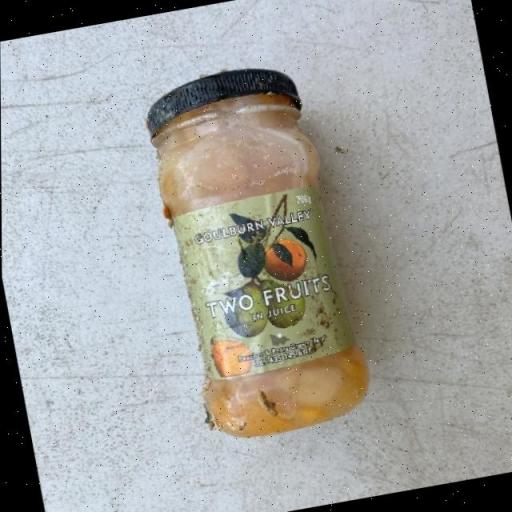plastic: (136, 53, 378, 446)
